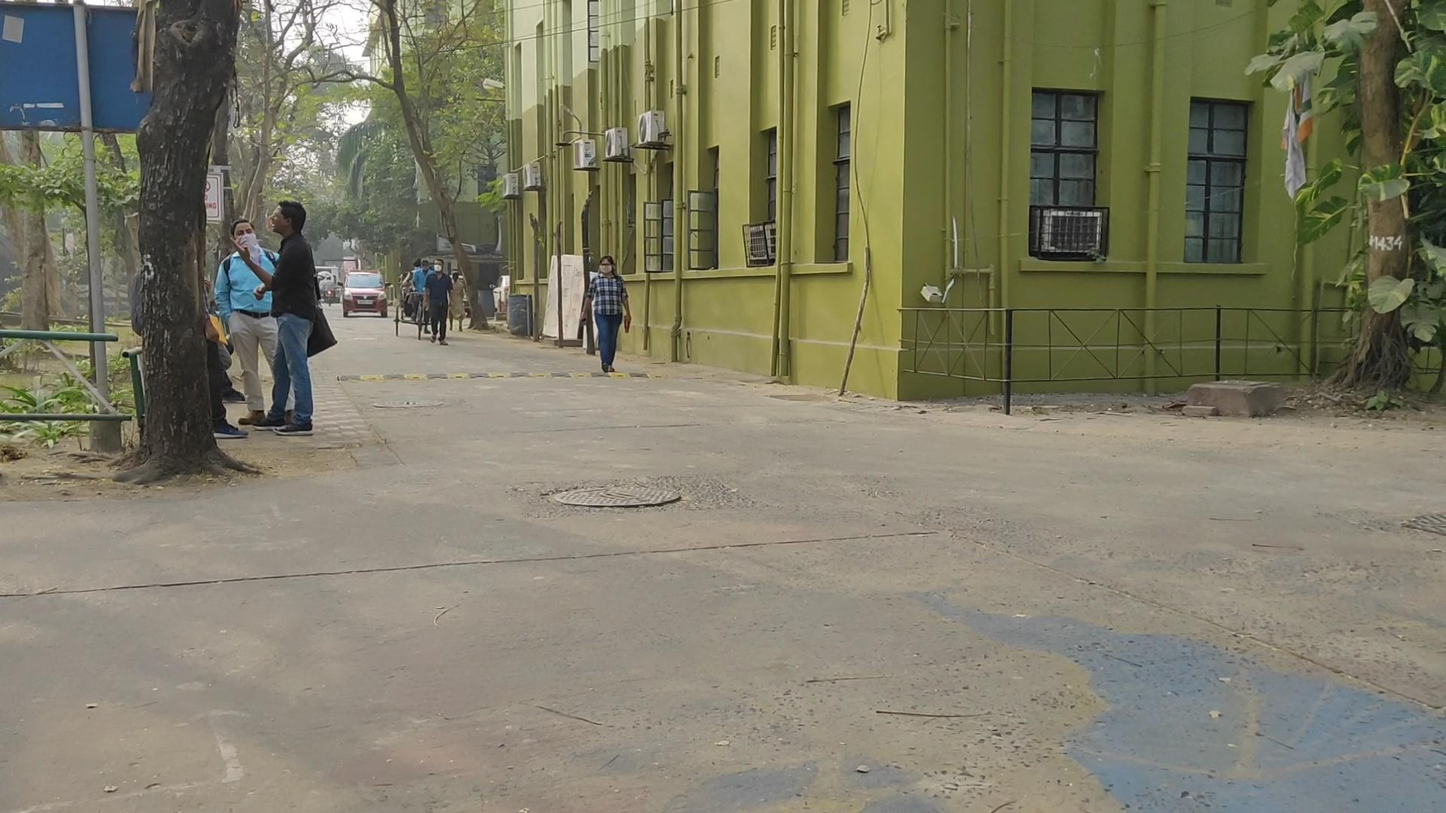bike: (322, 276, 337, 308)
car: (338, 270, 389, 319)
